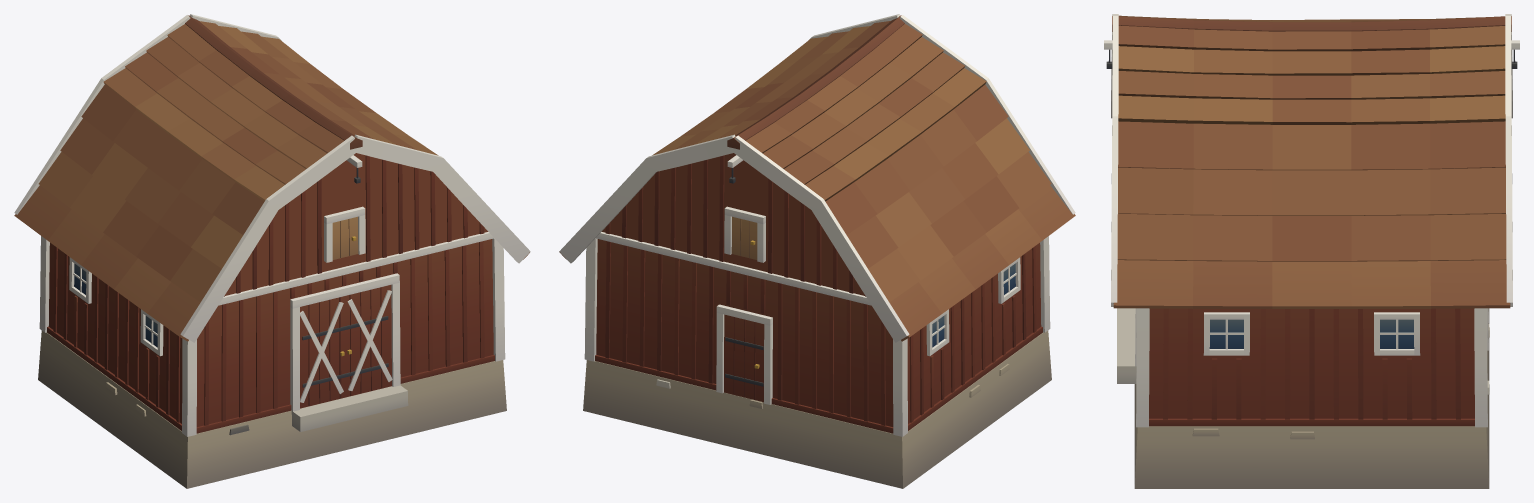
File: house_17_red_barn.glb
The picture shows the model from 3 angles, left to right: view 1: azimuth 30°, elevation 25°; view 2: azimuth 150°, elevation 25°; view 3: azimuth 270°, elevation 25°; orthographic projection. The views are drawn at different scales.
Parts seen in each view (by area): view 1: house_17_red_barn; view 2: house_17_red_barn; view 3: house_17_red_barn.
Part boxes in pixels (x1,y1,x2,y2): house_17_red_barn: [14, 14, 530, 488]; house_17_red_barn: [559, 14, 1075, 488]; house_17_red_barn: [1104, 14, 1519, 488].
Size of the model in its own units: 34.35 by 29.94 by 29.63.
1 material, 1 textured.
